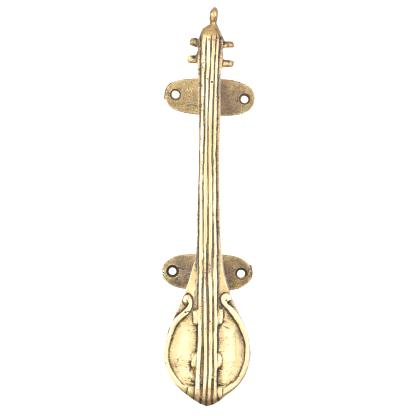Veena: (137, 3, 259, 409)
